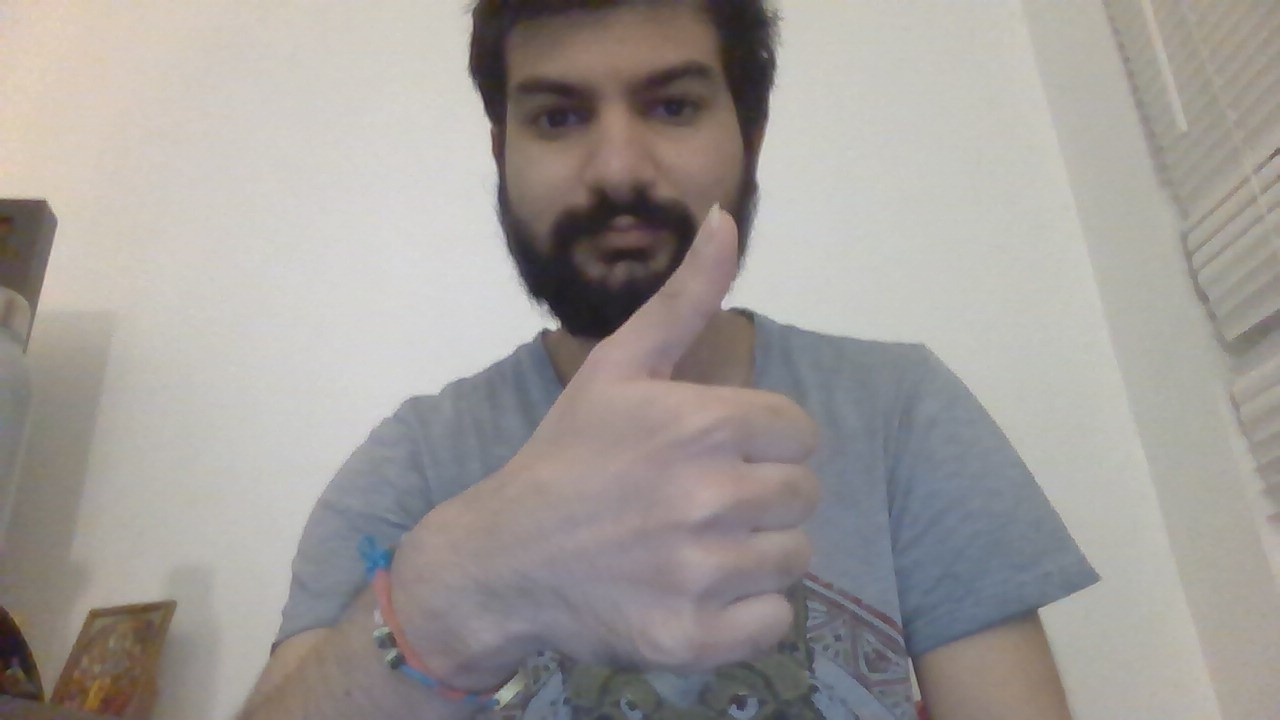up: (537, 198, 862, 676)
